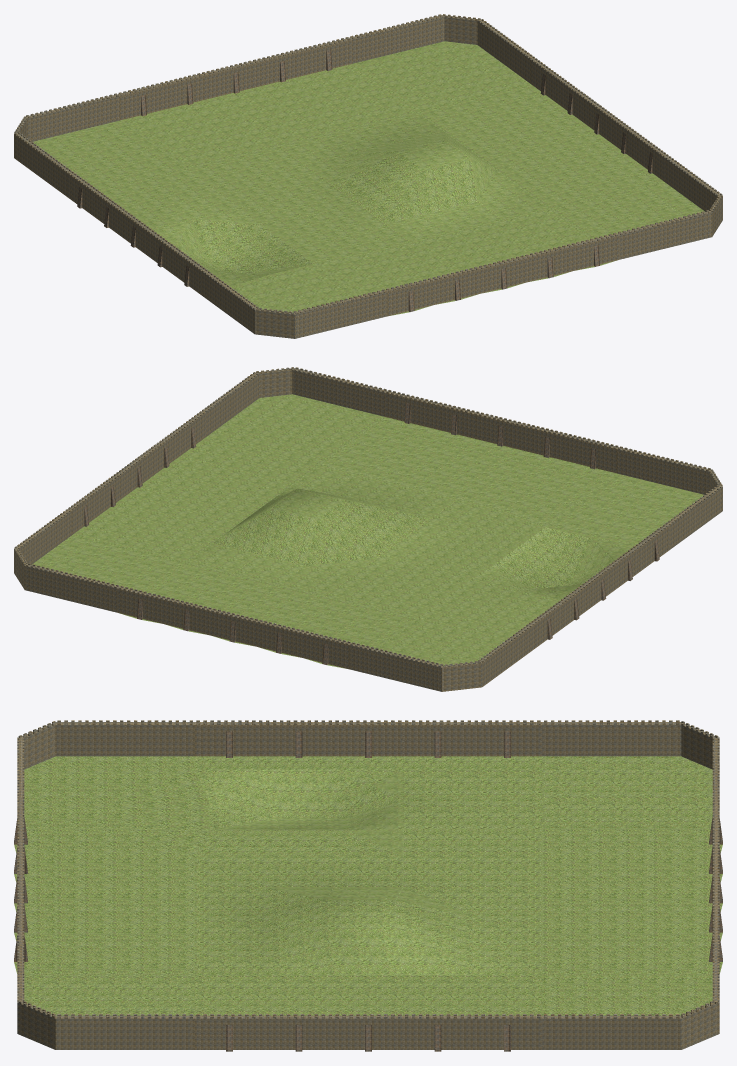
Rendered from map50Field.fbx.
3 renders of one model, top to bottom at view 1: azimuth 30°, elevation 25°; view 2: azimuth 150°, elevation 25°; view 3: azimuth 270°, elevation 25°, orthographic. The views are drawn at different scales.
Parts seen in each view (by area): view 1: map50F_Layer1, map50F_Layer2, map50F_Layer3, map50F_Layer4; view 2: map50F_Layer1, map50F_Layer2, map50F_Layer3, map50F_Layer4; view 3: map50F_Layer1, map50F_Layer2, map50F_Layer3, map50F_Layer4.
Part boxes in pixels (x1,y1,x2,y2): map50F_Layer1: (33,41,704,315); map50F_Layer2: (14,15,722,338); map50F_Layer3: (14,14,722,314); map50F_Layer4: (77,49,652,311); map50F_Layer1: (32,394,703,668); map50F_Layer2: (14,368,722,691); map50F_Layer3: (14,367,722,667); map50F_Layer4: (84,402,659,664); map50F_Layer1: (14,756,722,1015); map50F_Layer2: (17,722,719,1049); map50F_Layer3: (17,720,719,1018); map50F_Layer4: (14,731,722,1051).
Bounding box in the file's own units: 204 × 18.41 × 204.
4 materials, 4 textured.
